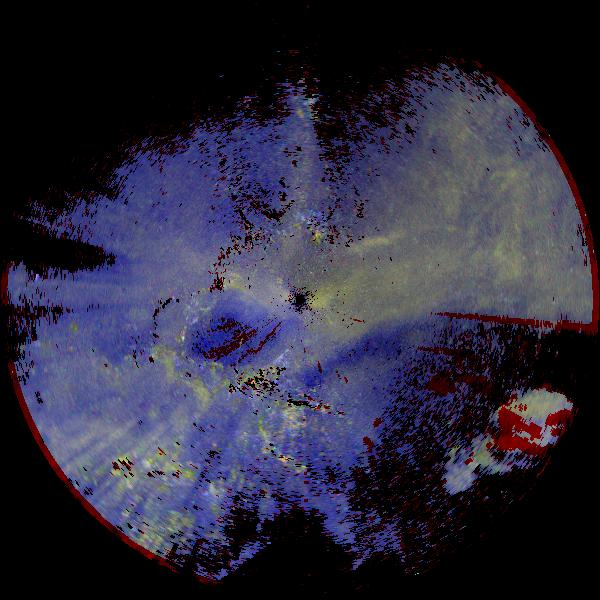roost: (173, 370, 218, 415), (142, 348, 184, 390)
